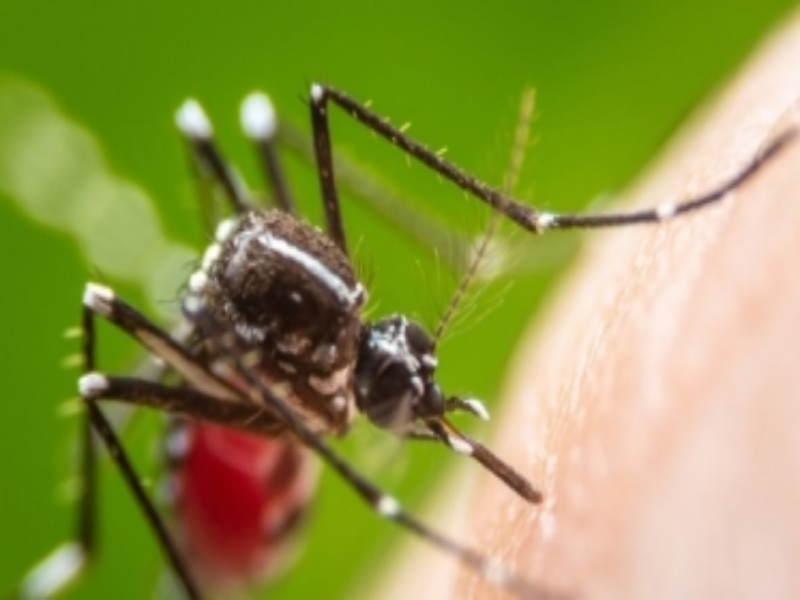dengue_mosquito: (83, 80, 552, 503)
